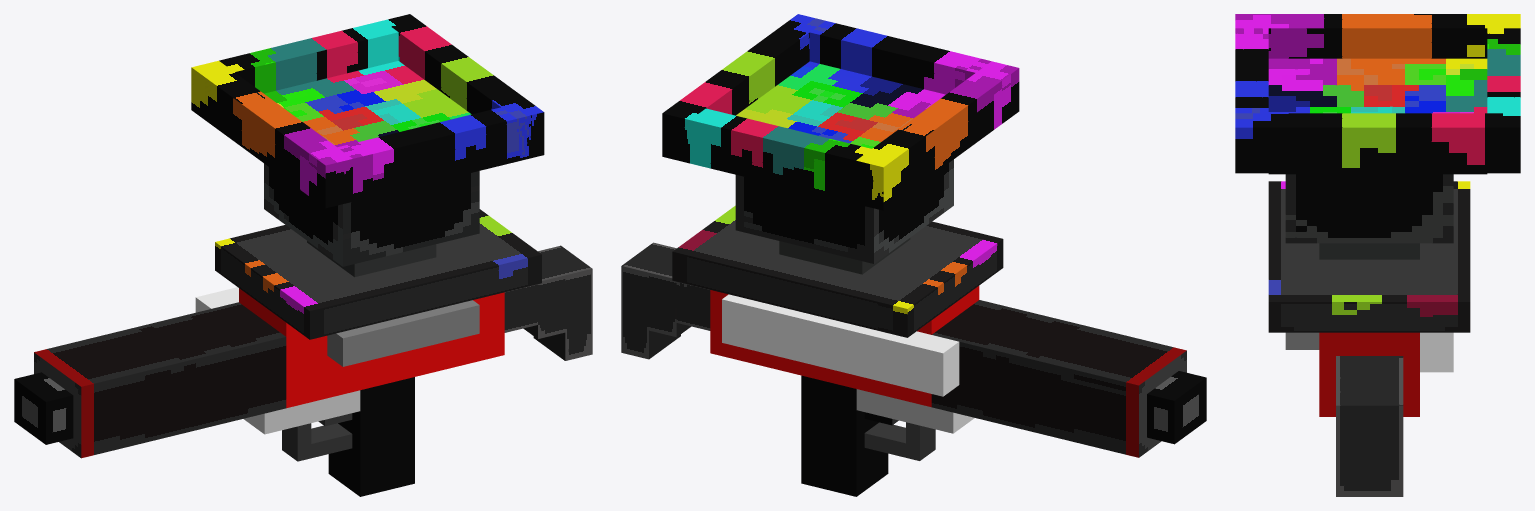
File: gun.gltf
3 views of the same model, side by side, from view 1: azimuth 30°, elevation 25°; view 2: azimuth 150°, elevation 25°; view 3: azimuth 270°, elevation 25° (orthographic). The views are drawn at different scales.
Parts seen in each view (by area): view 1: OrangeShadeCube, CyanShadeCube, BlueShadeCube, RedDonut_W_Part, YellowShadeCube, RedDonut_N_Part, Body_Main, Handle_Main, RedDonut_E_Part, RedDonut_NE_Part, GreenShadeCube, RedDonut_S_Part (+7 smaller); view 2: OrangeShadeCube, CyanShadeCube, PurpleShadeCubeRecreated, BlueShadeCube, RedDonut_W_Part, YellowShadeCube, RedDonut_NE_Part, Handle_Main, RedDonut_E_Part, RedDonut_N_Part, Body_Main, RedDonut_S_Part (+6 smaller); view 3: CyanShadeCube, RedDonut_E_Part, YellowShadeCube, BlueShadeCube, RedDonut_W_Part, RedDonut_S_Part, Body_Main, RedDonut_N_Part, RedDonut_NE_Part, Container_Base, RedShadeCube, PurpleShadeCubeRecreated (+2 smaller).
Boxes of the visible parts, x1,y1,x2,y2 form: OrangeShadeCube: (34, 302, 286, 458); CyanShadeCube: (215, 209, 541, 339); BlueShadeCube: (264, 163, 479, 266); RedDonut_W_Part: (191, 60, 352, 208); YellowShadeCube: (264, 61, 471, 147); RedDonut_N_Part: (337, 107, 516, 201); Body_Main: (239, 288, 504, 408); Handle_Main: (328, 377, 414, 496); RedDonut_E_Part: (383, 14, 544, 161); RedDonut_NE_Part: (219, 20, 398, 93); GreenShadeCube: (327, 300, 479, 366); RedDonut_S_Part: (533, 245, 592, 360); OrangeShadeCube: (931, 300, 1186, 457); CyanShadeCube: (672, 205, 1003, 337); PurpleShadeCubeRecreated: (722, 294, 959, 396); BlueShadeCube: (735, 159, 953, 263); RedDonut_W_Part: (856, 61, 1019, 210); YellowShadeCube: (736, 61, 945, 148); RedDonut_NE_Part: (690, 108, 871, 203); Handle_Main: (801, 375, 888, 496); RedDonut_E_Part: (662, 14, 825, 163); RedDonut_N_Part: (809, 21, 991, 94); Body_Main: (710, 286, 979, 407); RedDonut_S_Part: (621, 242, 680, 359); CyanShadeCube: (1268, 181, 1470, 332); RedDonut_E_Part: (1235, 113, 1520, 173); YellowShadeCube: (1268, 58, 1487, 174); BlueShadeCube: (1285, 174, 1453, 243); RedDonut_W_Part: (1235, 14, 1520, 58); RedDonut_S_Part: (1336, 391, 1403, 496); Body_Main: (1319, 332, 1419, 416); RedDonut_N_Part: (1235, 28, 1268, 113); RedDonut_NE_Part: (1487, 28, 1520, 113); Container_Base: (1319, 243, 1419, 259); RedShadeCube: (1336, 356, 1403, 377); PurpleShadeCubeRecreated: (1420, 332, 1453, 372).
Size of the model in its own units: 2.5 by 1.69 by 1.06.
120 materials, 120 textured.
